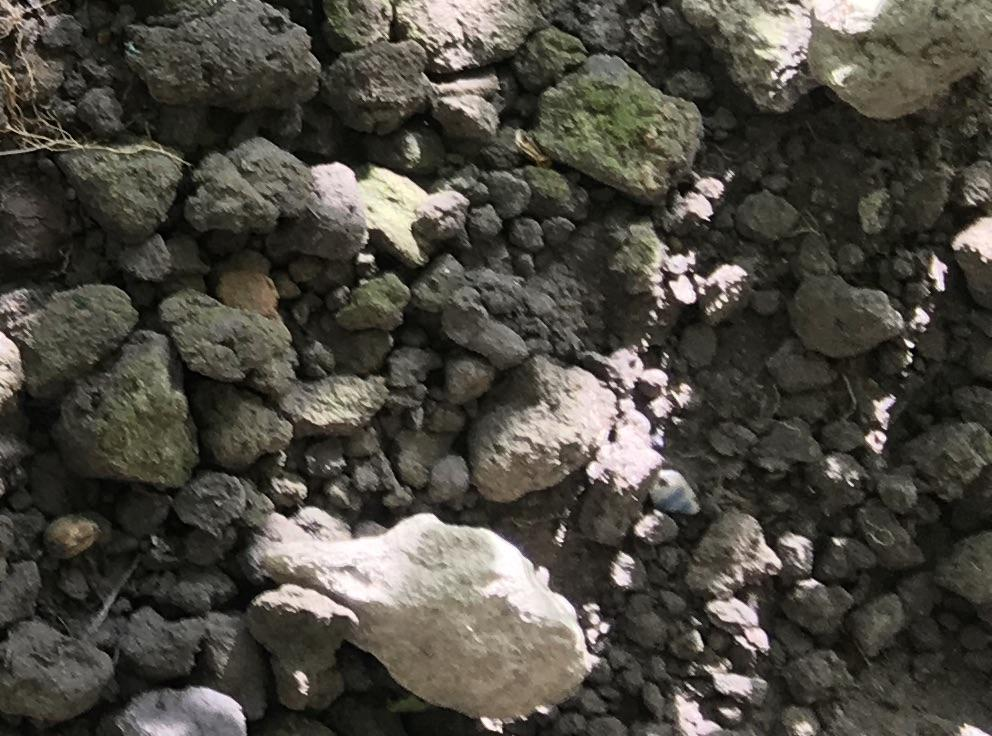block: (237, 510, 593, 727), (537, 49, 703, 203), (455, 356, 617, 505), (53, 330, 200, 493), (121, 3, 322, 114), (807, 1, 989, 123)
